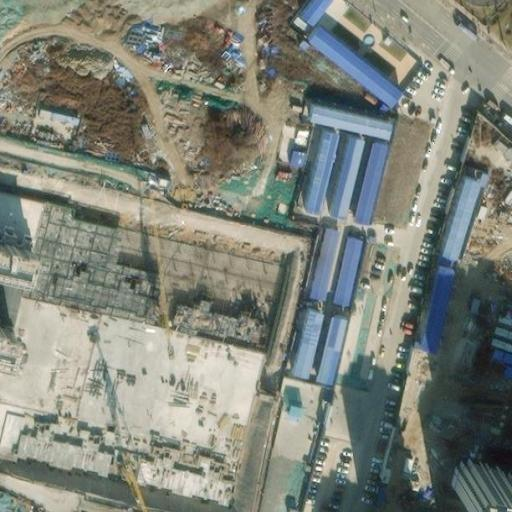building: (63, 214, 288, 289), (298, 20, 393, 101), (42, 257, 138, 310), (8, 415, 104, 468), (165, 288, 258, 336), (131, 446, 224, 494), (408, 254, 450, 350), (438, 444, 512, 493), (431, 171, 472, 259), (344, 136, 380, 220), (279, 299, 318, 376), (320, 130, 355, 214), (296, 125, 331, 208), (298, 220, 333, 295), (300, 100, 383, 131), (325, 227, 359, 301), (307, 306, 340, 377), (0, 230, 23, 265), (286, 145, 306, 168)
